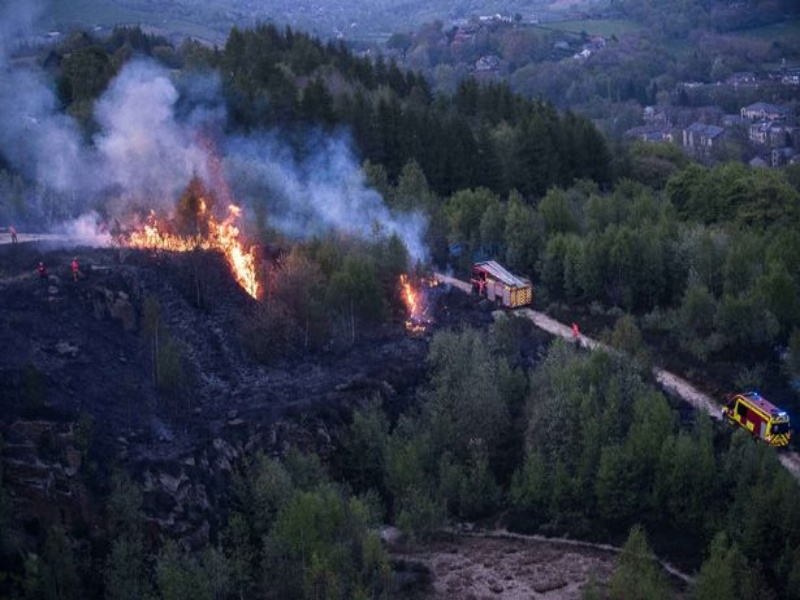smoke: (1, 76, 427, 255)
